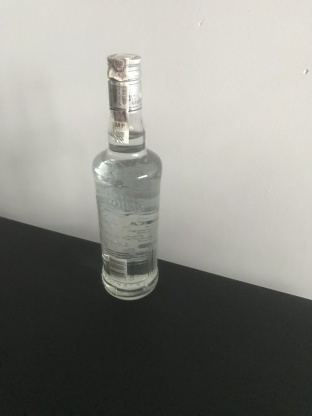nakretka: (105, 50, 143, 114)
